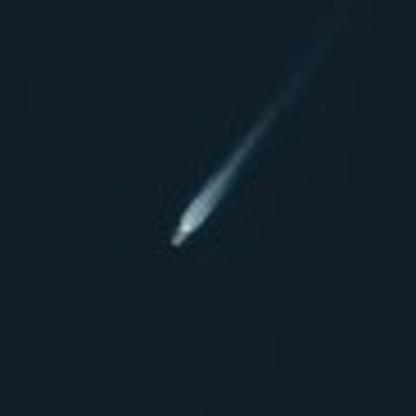ship: (164, 224, 194, 253)
